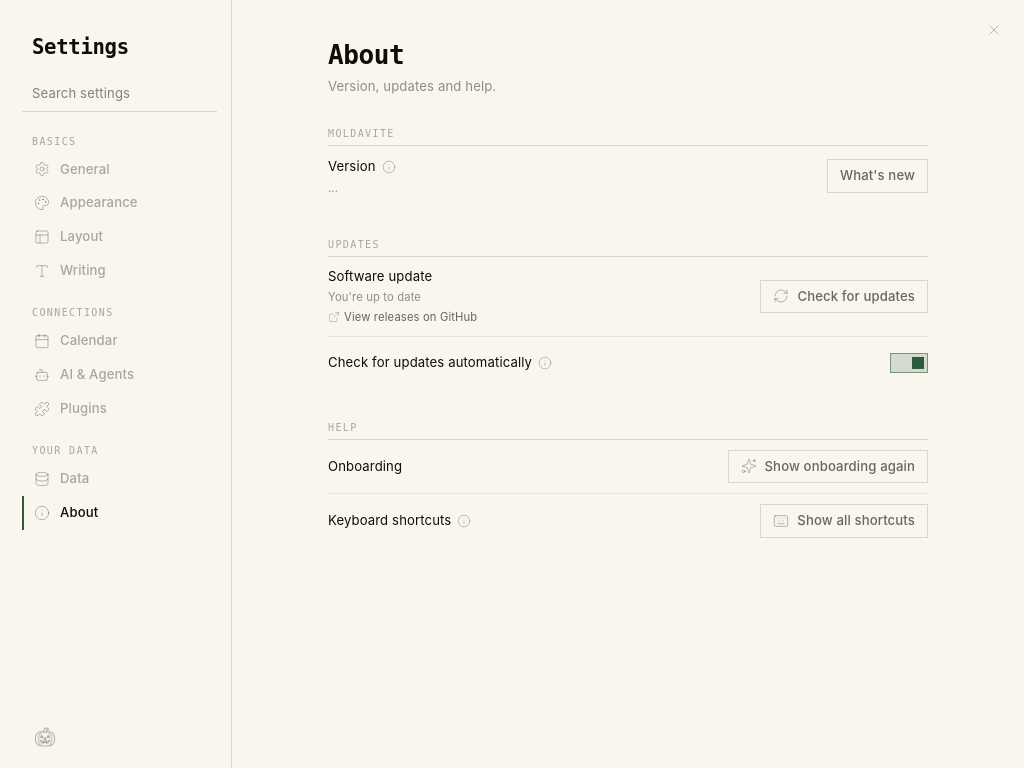
SettingsModal on the desktop › says so when nothing matches
The width and height of the screenshot is (1024, 768).
Type "xyzzy" into the search field labelled "Search settings". click: (120, 94)
box: [22,77,217,112]
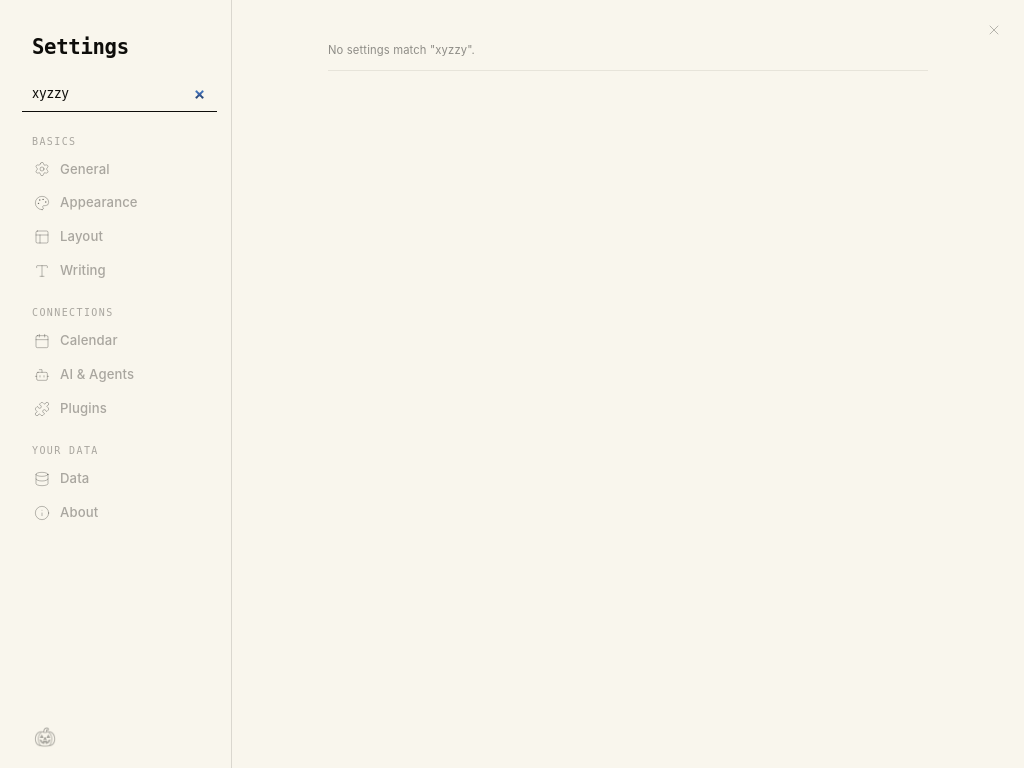
Now the message reads "No settings match \"xyzzy\".", box [328,43,475,57]
